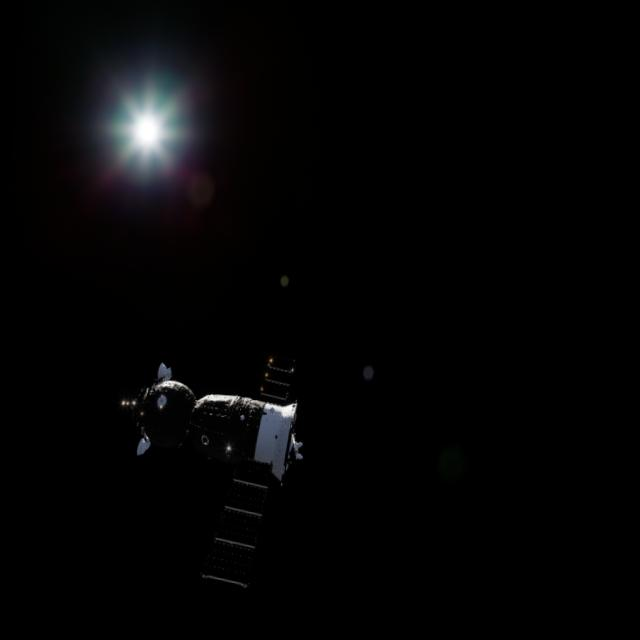Satellites revolving around earth: (108, 346, 312, 598)
